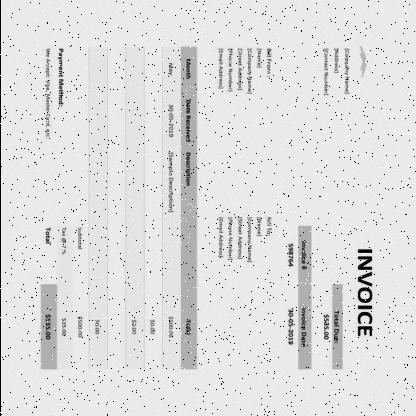Paragraph: (40, 225, 84, 342), (214, 213, 274, 265), (216, 46, 272, 96), (41, 44, 66, 142), (356, 248, 374, 338), (322, 47, 350, 97), (285, 306, 307, 350), (320, 308, 340, 346), (286, 240, 308, 272), (93, 318, 99, 336)
Table: (125, 48, 196, 370)
